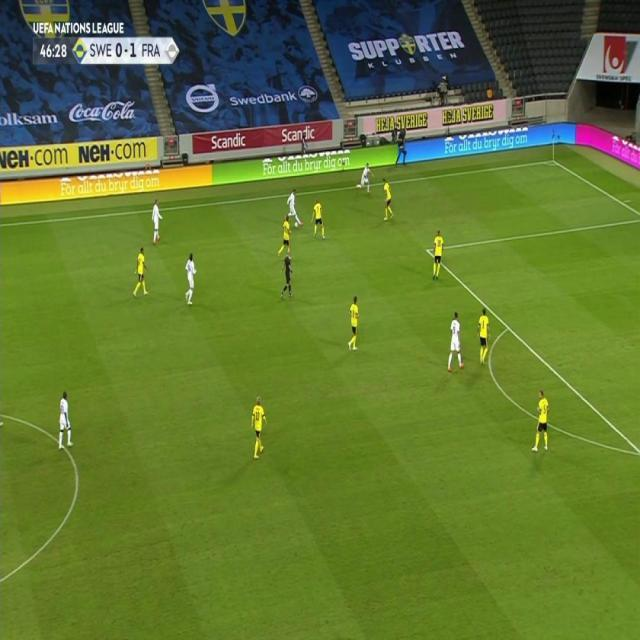ball: (294, 221, 298, 228)
player: (530, 388, 552, 454), (249, 394, 269, 461), (56, 390, 75, 455), (446, 310, 465, 374), (476, 306, 492, 368), (132, 245, 150, 297), (347, 293, 362, 353), (183, 251, 198, 305), (430, 227, 445, 280), (286, 187, 305, 228), (277, 213, 293, 259), (150, 199, 164, 244), (311, 197, 326, 239), (381, 176, 394, 222), (356, 161, 373, 193)
referee: (280, 252, 294, 301)
